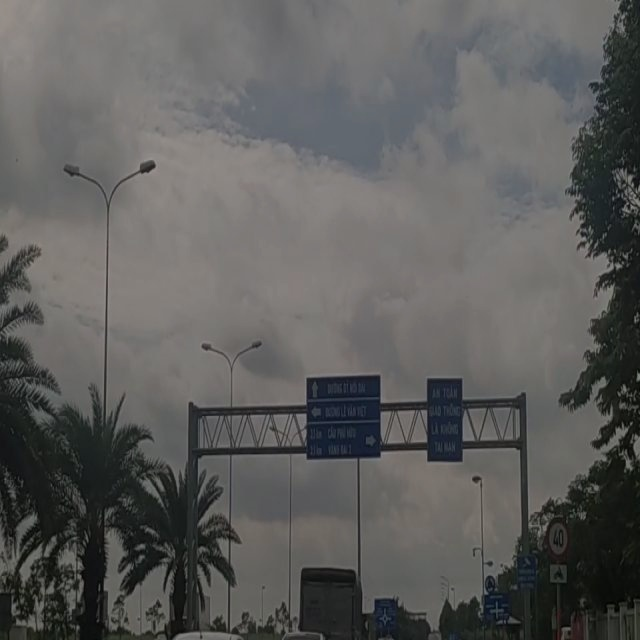P.127*40: (546, 519, 568, 559)
S.505a*Xe may: (548, 560, 570, 586)
